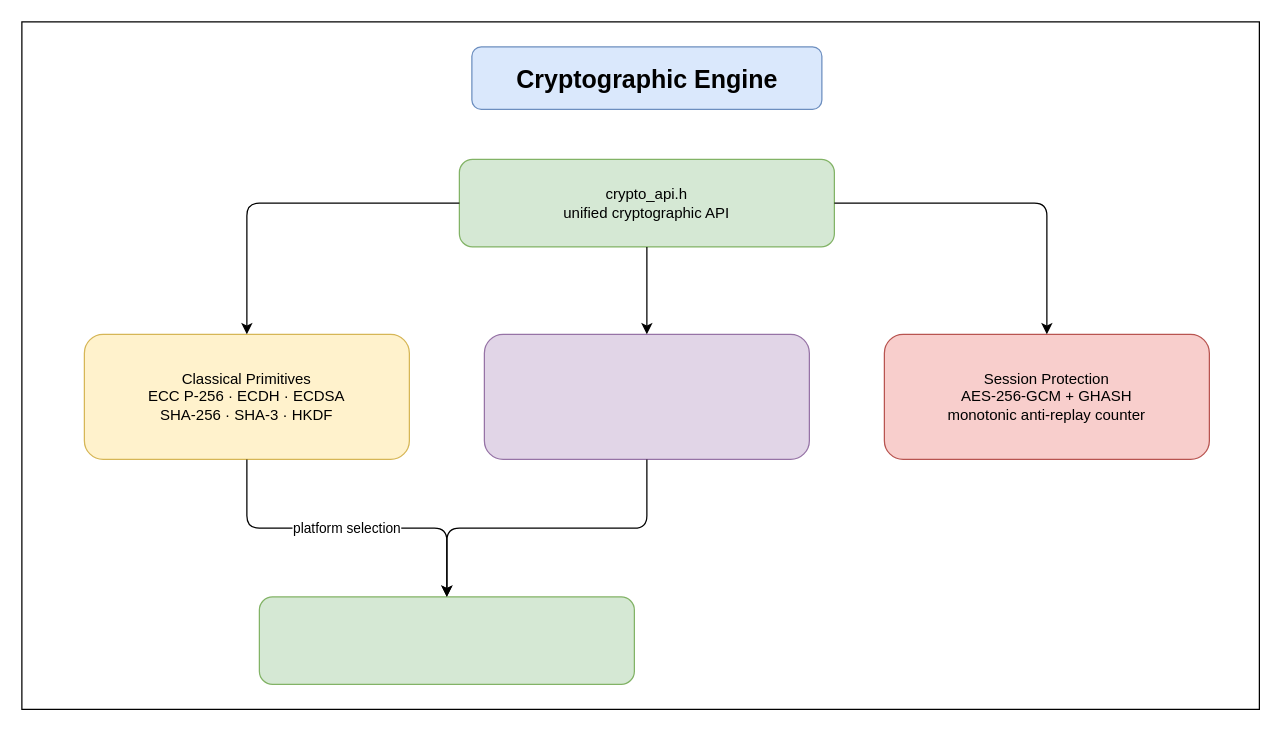
Some shapes in this 1281 by 731 pixel diagram are drawn without their labels. Each missing label, with the centre of its shape:
Backend Dispatch ATECC608B / OpenSSL / software: the point at 446,640
Post-Quantum Primitives ML-KEM-512 (FIPS 203) ML-DSA-44 (FIPS 204): the point at 646,396
